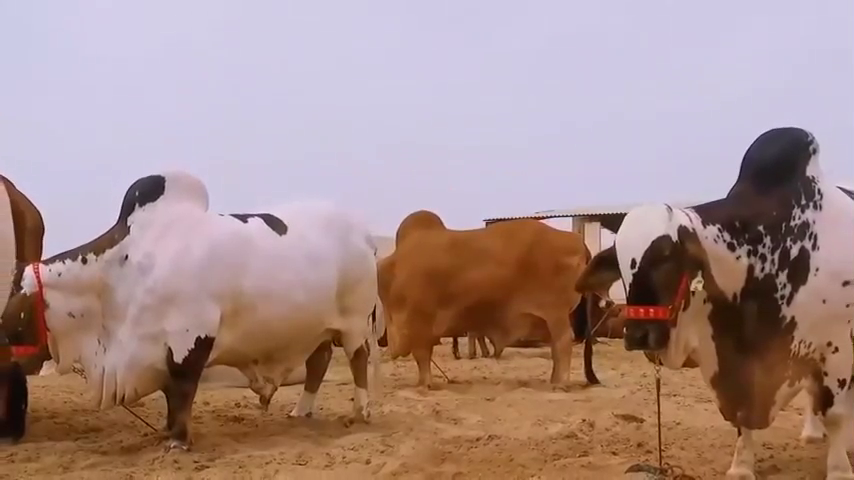bo: (20, 150, 382, 464), (581, 122, 854, 480), (351, 204, 610, 401)
